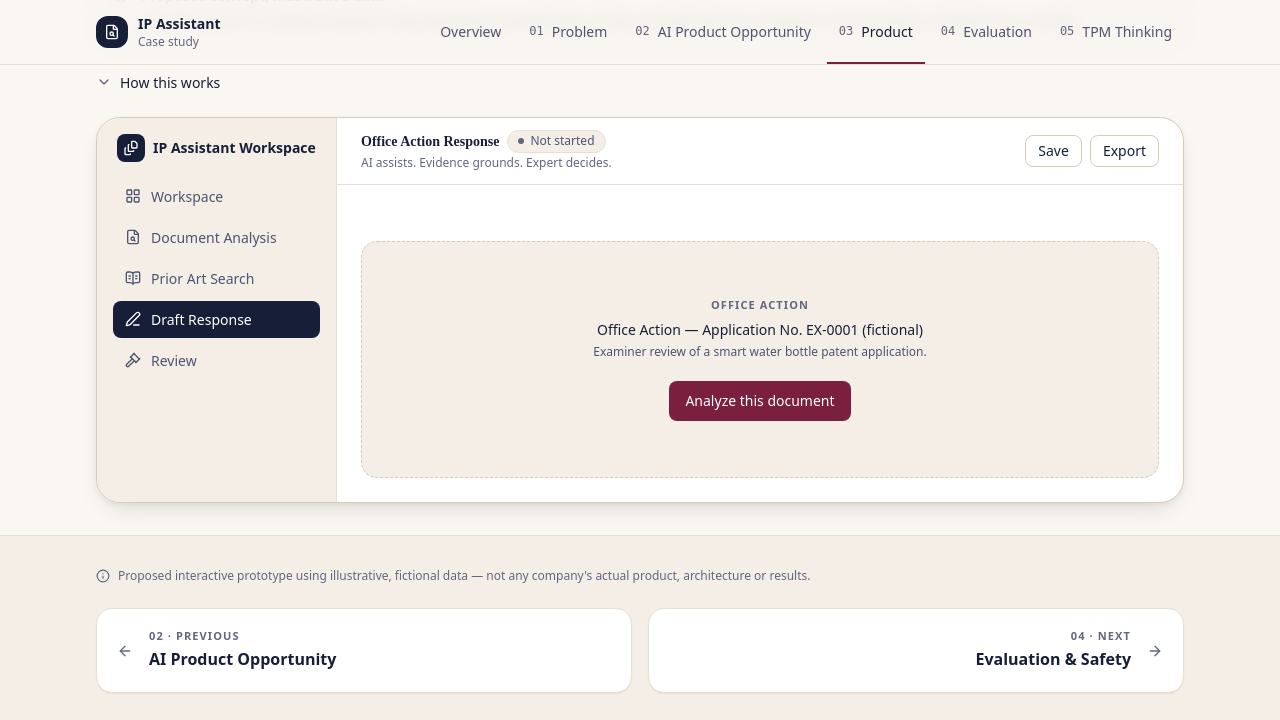
Test case: Prototype page › shows the illustrative quality panel with every number tagged Illustrative
The width and height of the screenshot is (1280, 720).
(page scrolled)
Click the button "Analyze this document" at [760, 400], box [669,380,850,420]
Wait 3900 ms
(page scrolled)
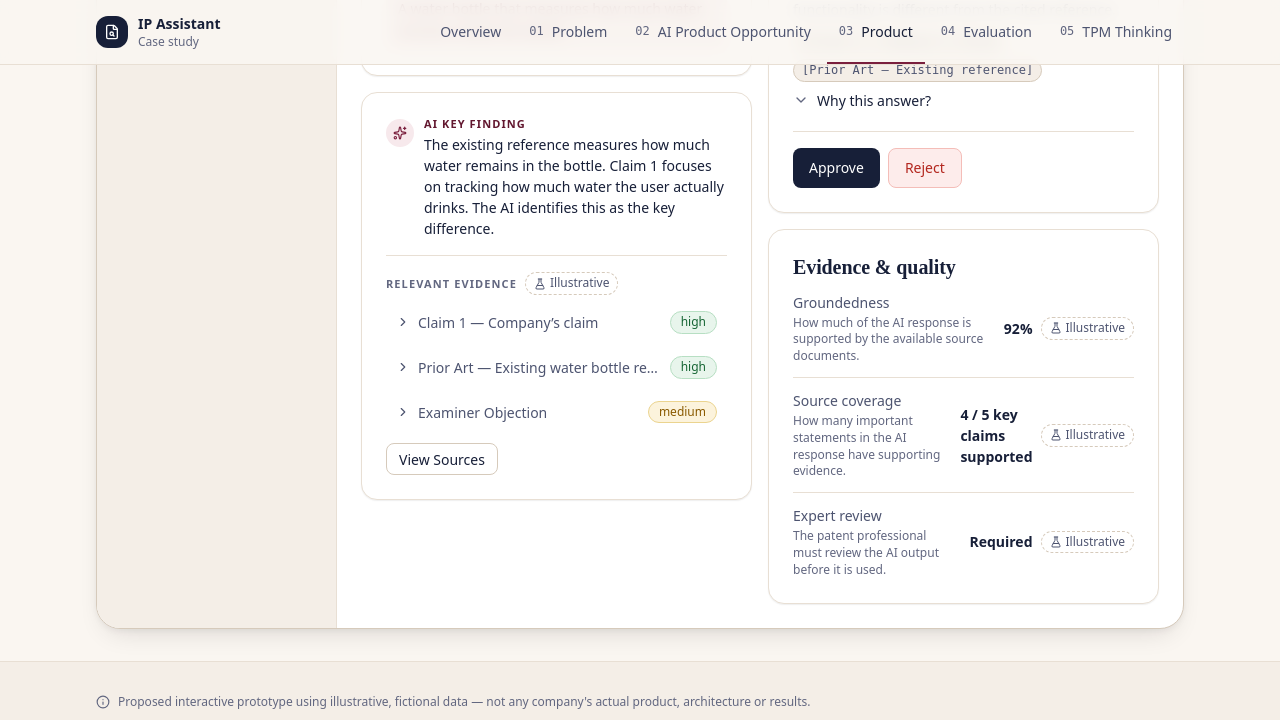
Check: the text "Groundedness" is shown, box [793,293,890,312]
Check: the text "92%" is shown, box [1004,319,1032,338]
Check: the text "Source coverage" is shown, box [793,391,901,410]
